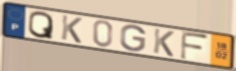0: (92, 19, 115, 49)
F: (179, 30, 211, 62)
G: (119, 24, 148, 53)
K: (152, 27, 176, 58), (60, 14, 84, 45)
Q: (27, 11, 55, 41)
